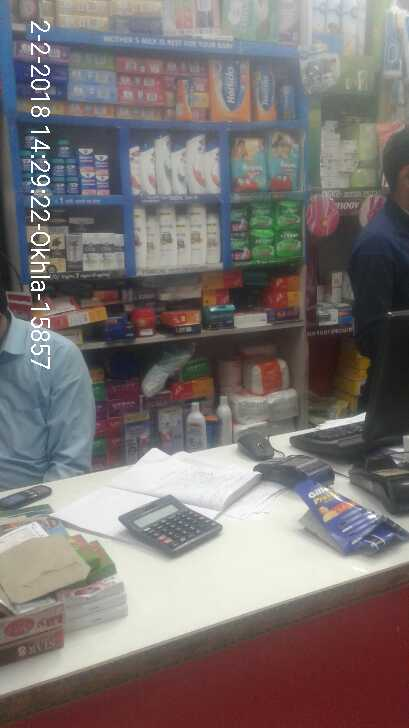vicks: (24, 131, 113, 199)
